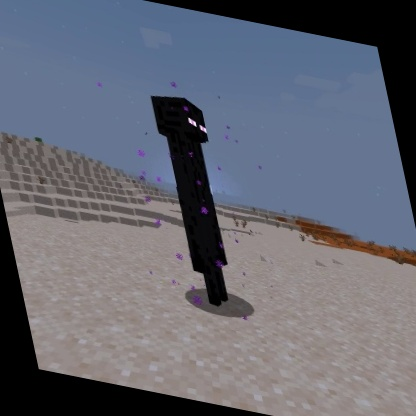enderman: (144, 88, 249, 316)
